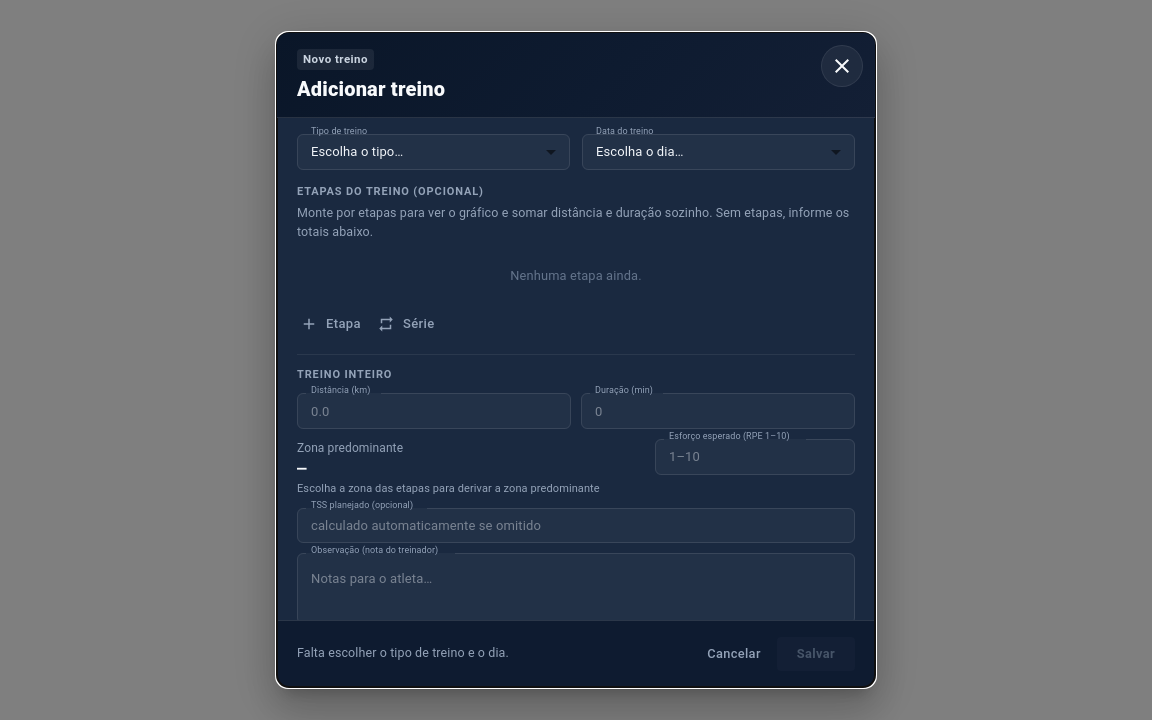
Test case: TreinoAddDialog › etapa sem tipo avisa que não será salva
Click the button "Etapa": {"x": 331, "y": 324} [297, 309, 366, 340]
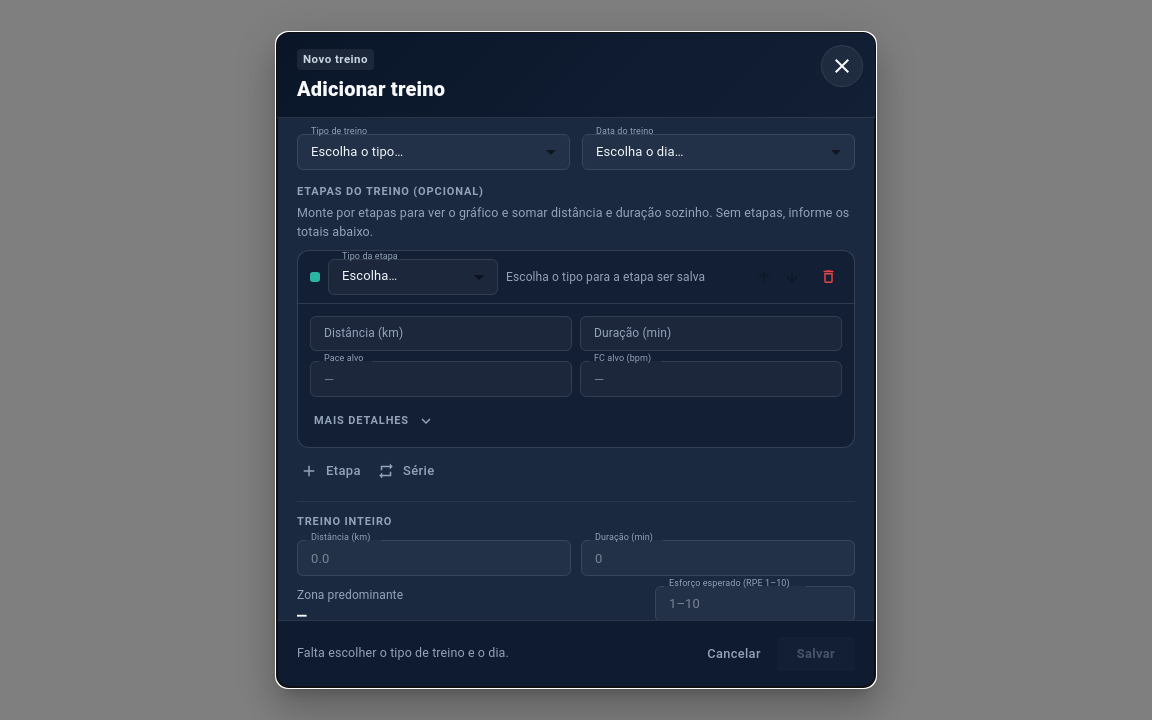
Result: the text "Escolha o tipo para a etapa ser salva" is shown at [506, 268, 705, 286]
Select "Aquecimento" in the dropdown named "Tipo da etapa 1": {"x": 413, "y": 277} [328, 259, 498, 295]
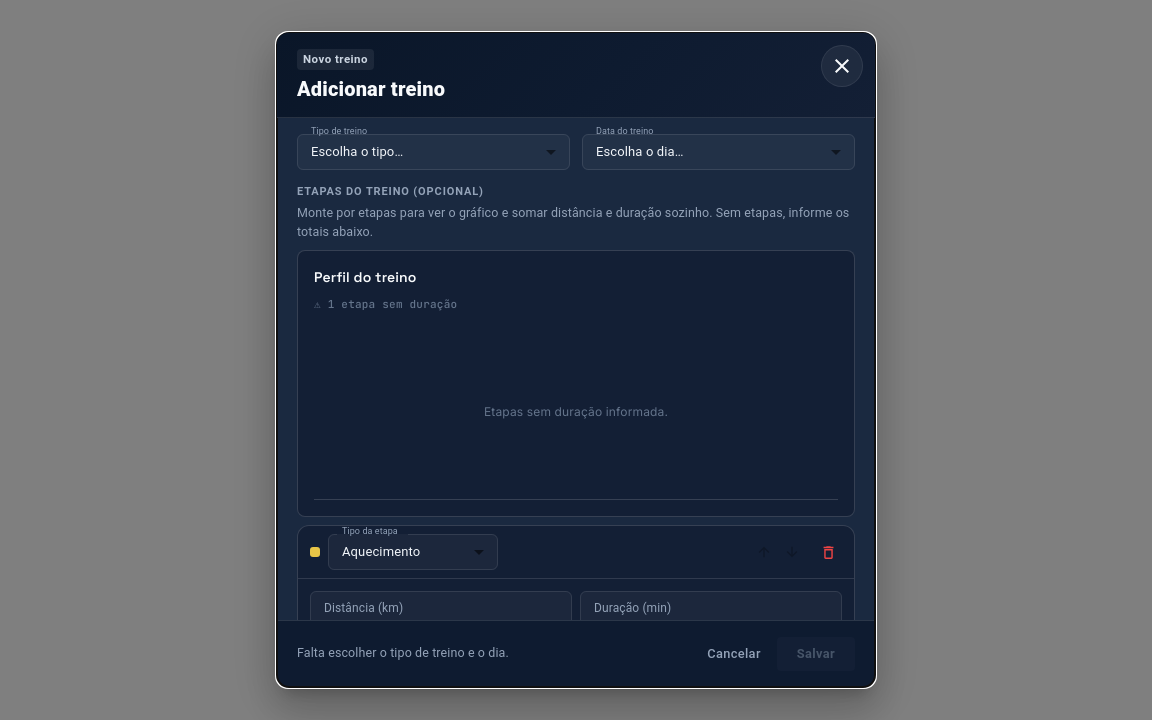
Result: the text with test id "etapa-sem-tipo" is gone
